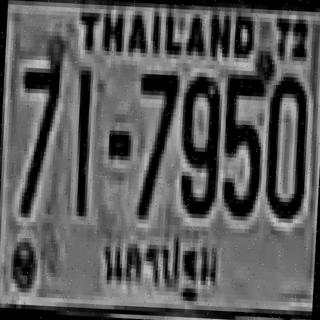N00: (262, 72, 308, 215)
N01: (72, 64, 92, 214)
N05: (220, 70, 266, 213)
N07: (15, 47, 62, 215), (132, 70, 178, 217)
N09: (176, 72, 220, 215)
P28: (94, 228, 225, 309)
